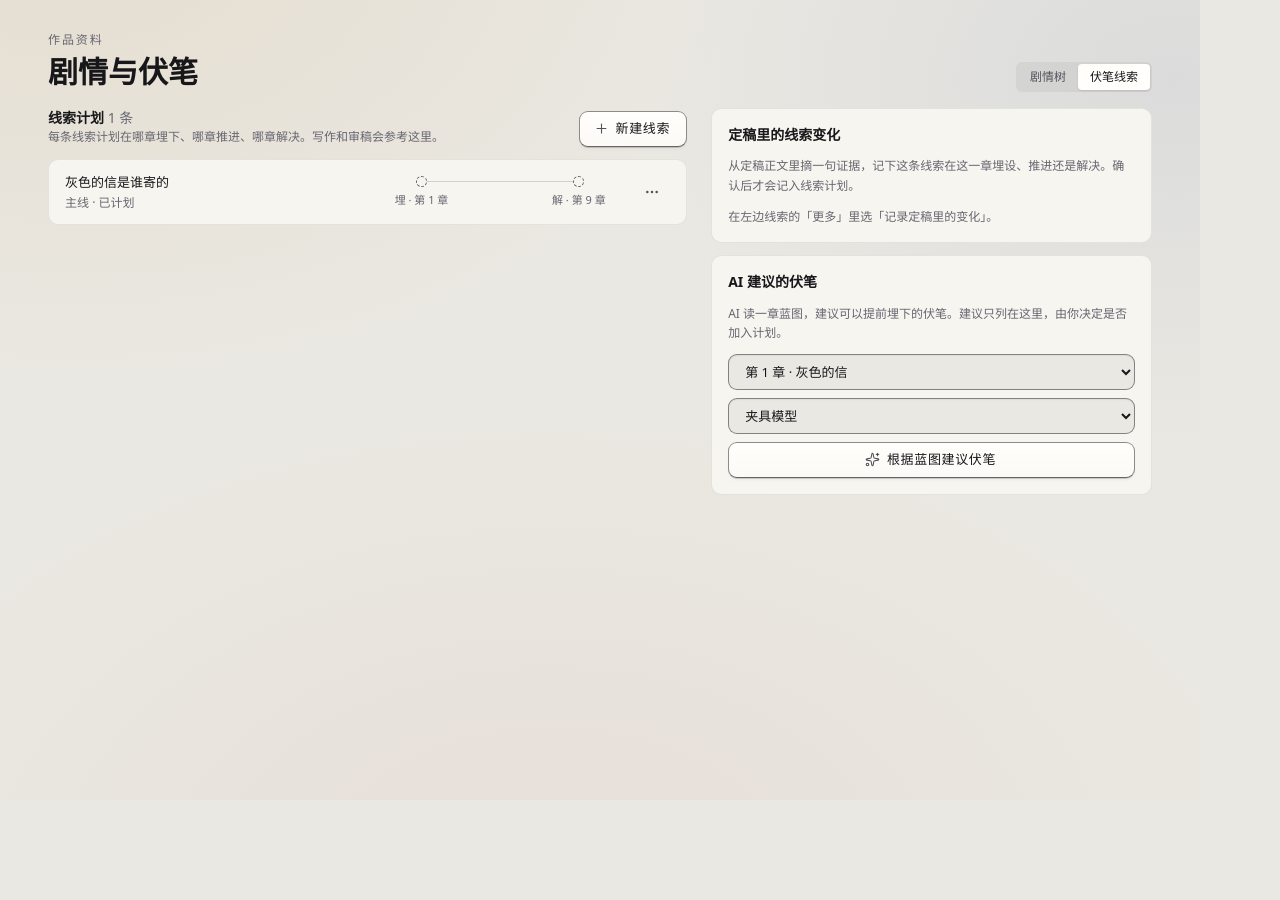
Scenario: 剧情与伏笔 › 删除线索计划先危险确认：取消不删，确认才删
Click the button named "「灰色的信是谁寄的」的更多操作".
click(652, 192)  # box [634,174,670,210]
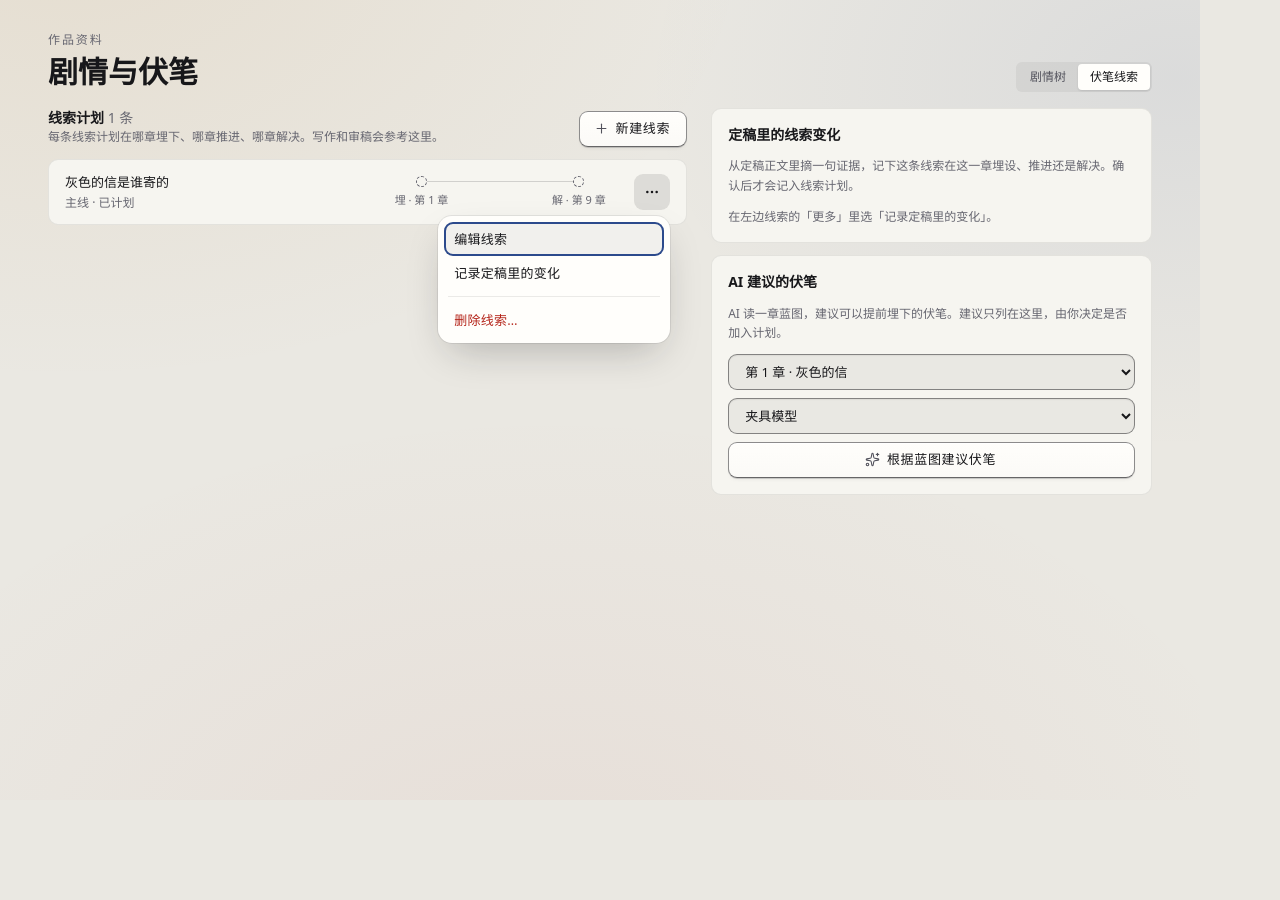
Expected: the menu item "删除线索…" is shown
Click the menu item "删除线索…".
click(554, 320)  # box [444,303,664,337]
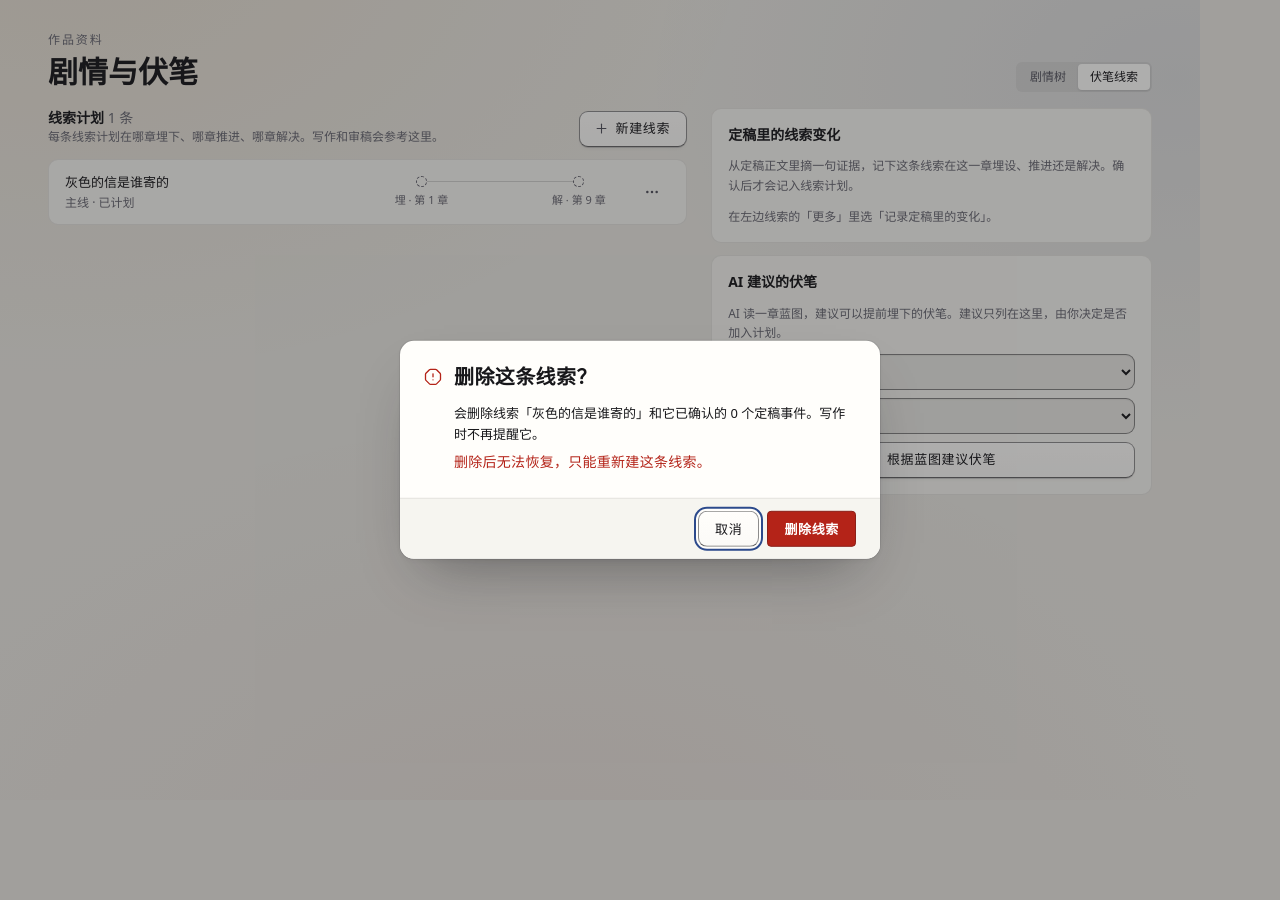
Expected: the dialog shows "删除这条线索？", [454,366,597,388]
Expected: the dialog shows "会删除线索「灰色的信是谁寄的」", [454,404,845,443]
Expected: the button "取消" is shown
Click the button "取消".
click(729, 529)  # box [698,511,759,547]
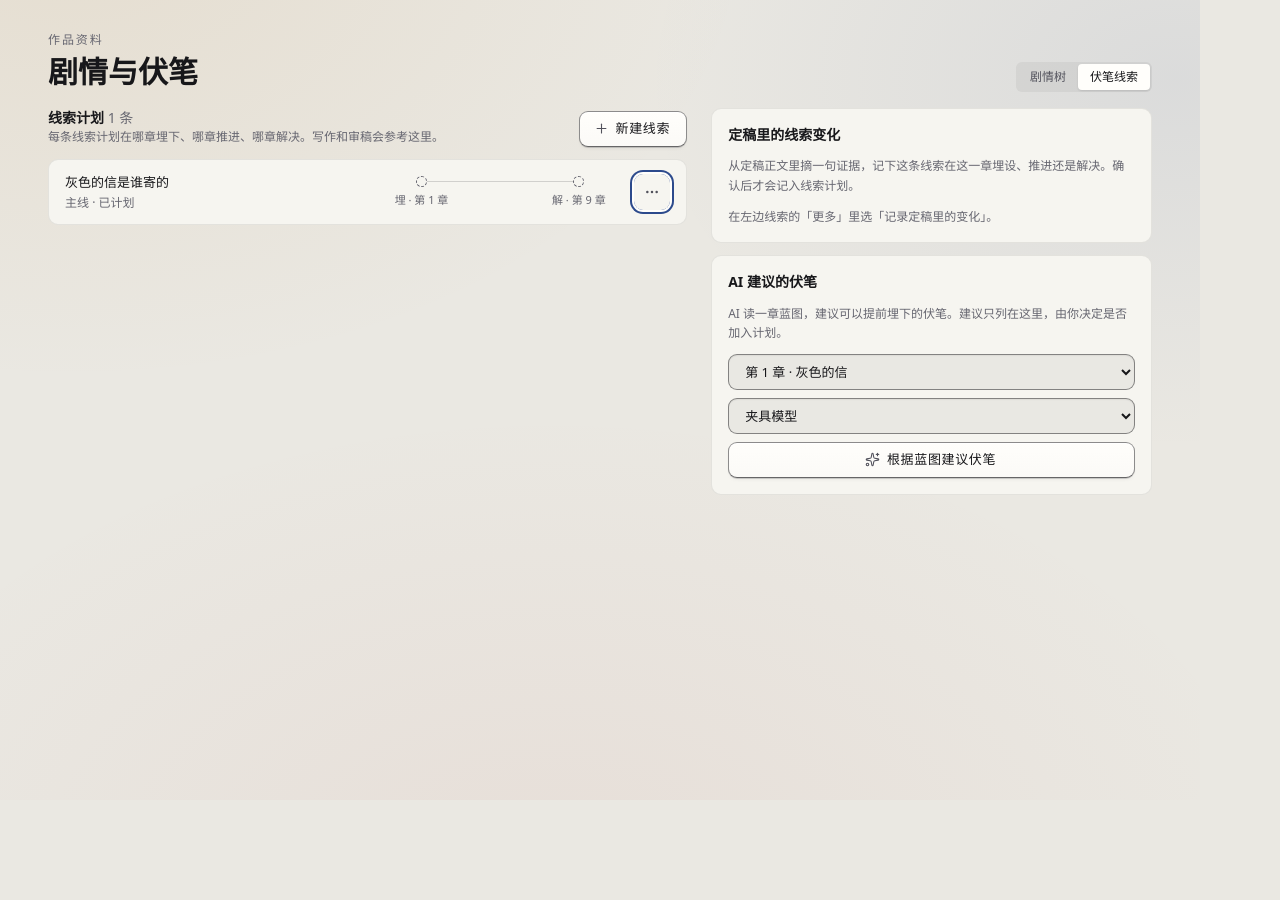
Click the button named "「灰色的信是谁寄的」的更多操作".
click(652, 192)  # box [634,174,670,210]
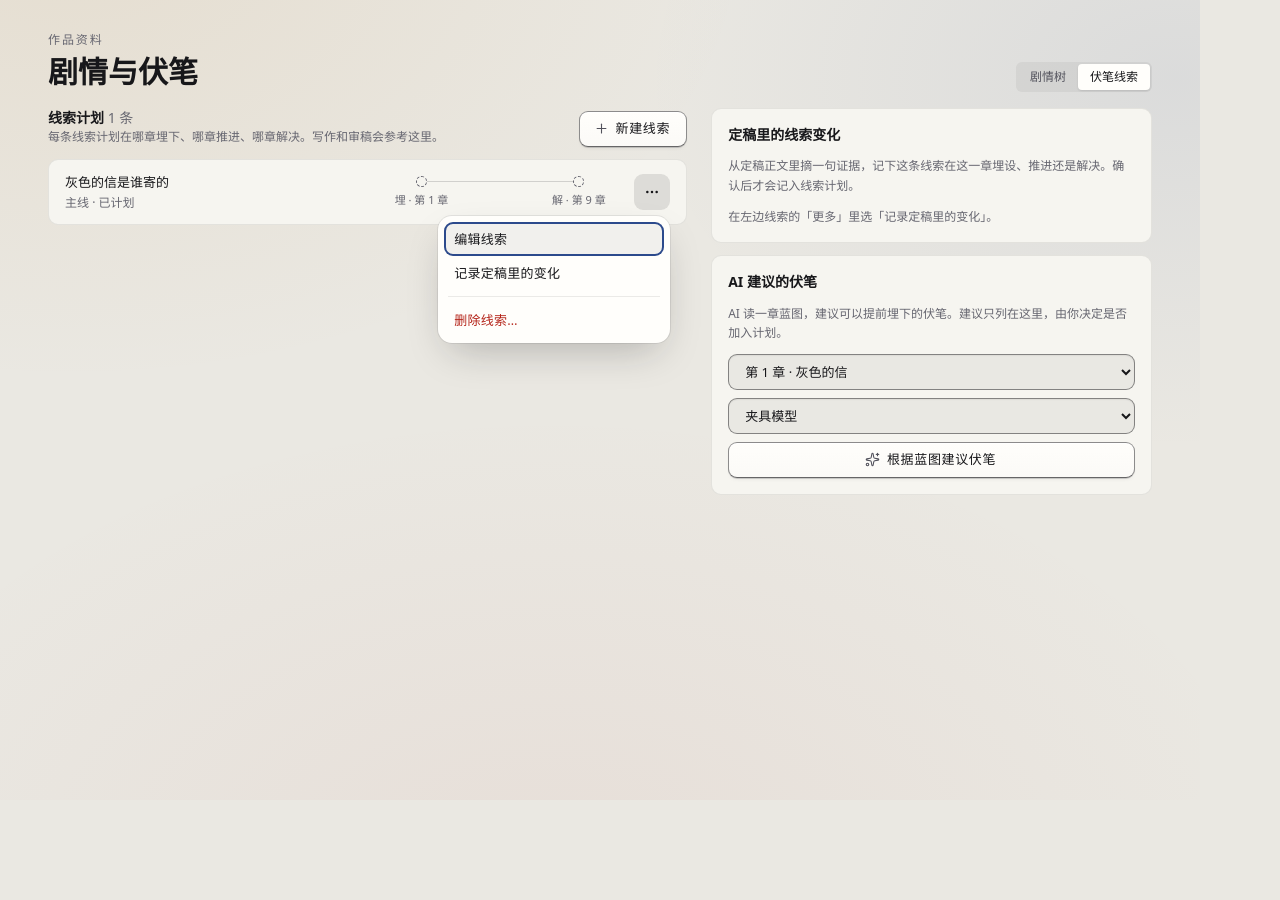
Expected: the menu item "删除线索…" is shown
Click the menu item "删除线索…".
click(554, 320)  # box [444,303,664,337]
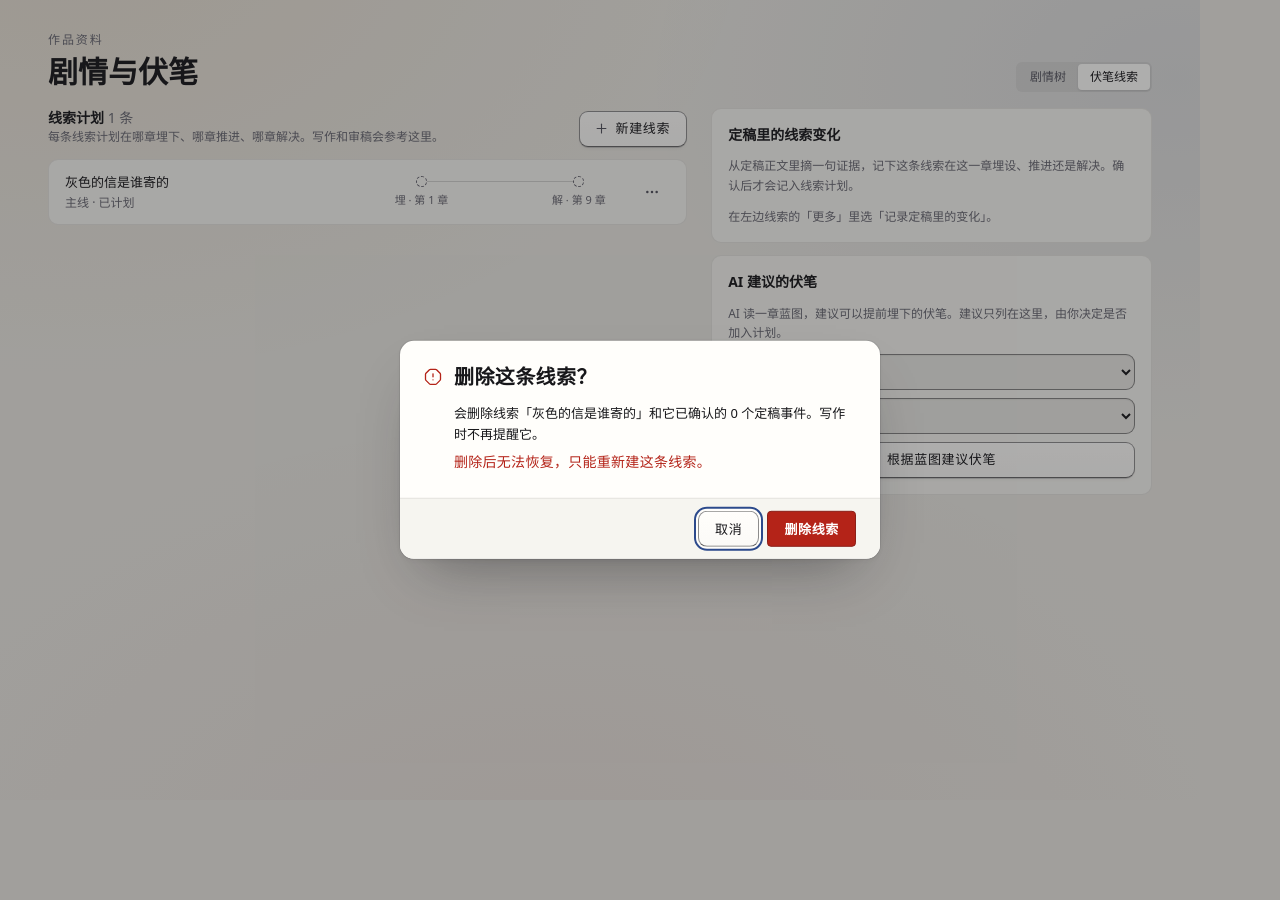
Expected: the button "删除线索" is shown
Click the button "删除线索".
click(812, 529)  # box [767,511,856,547]
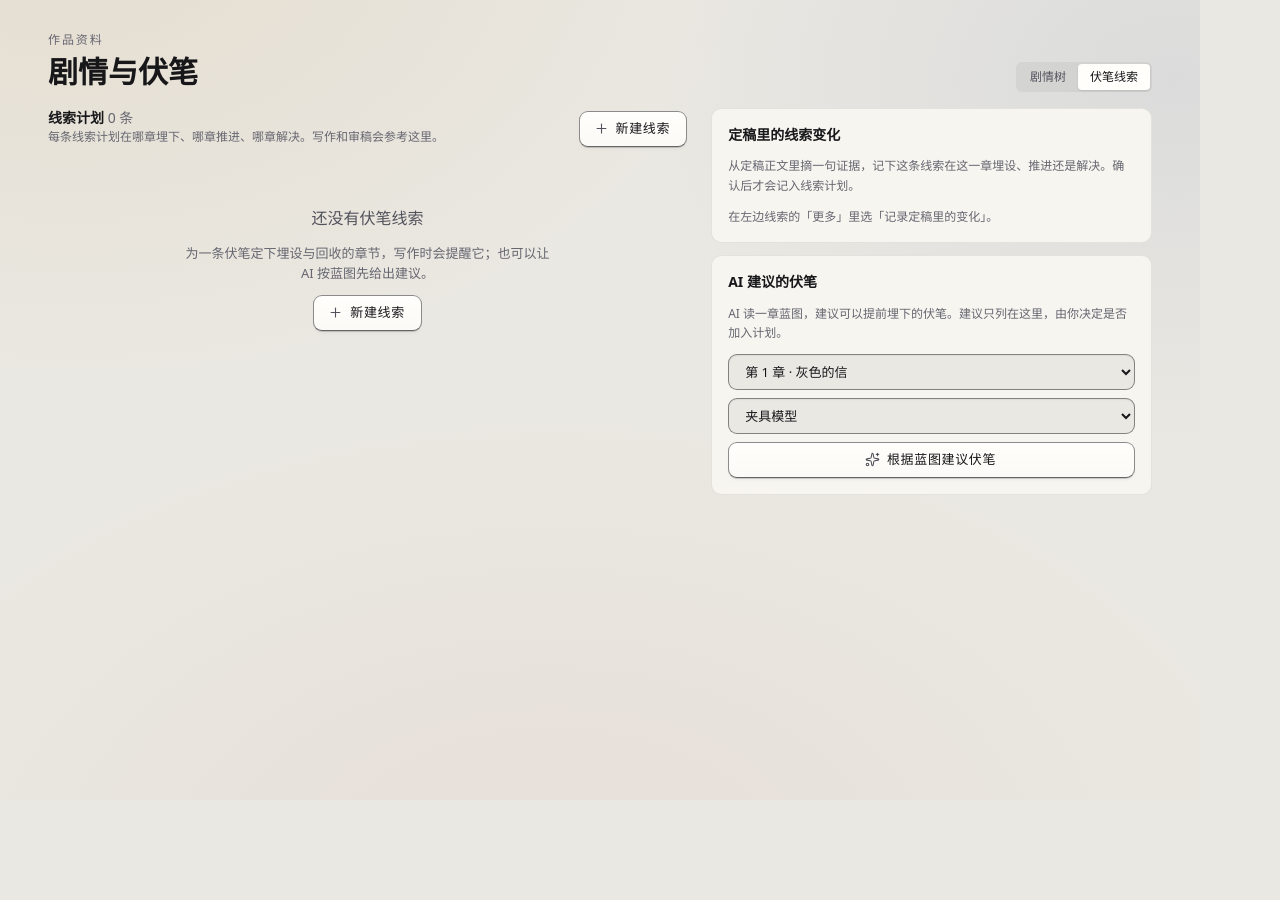
Expected: the text "灰色的信是谁寄的" is gone
